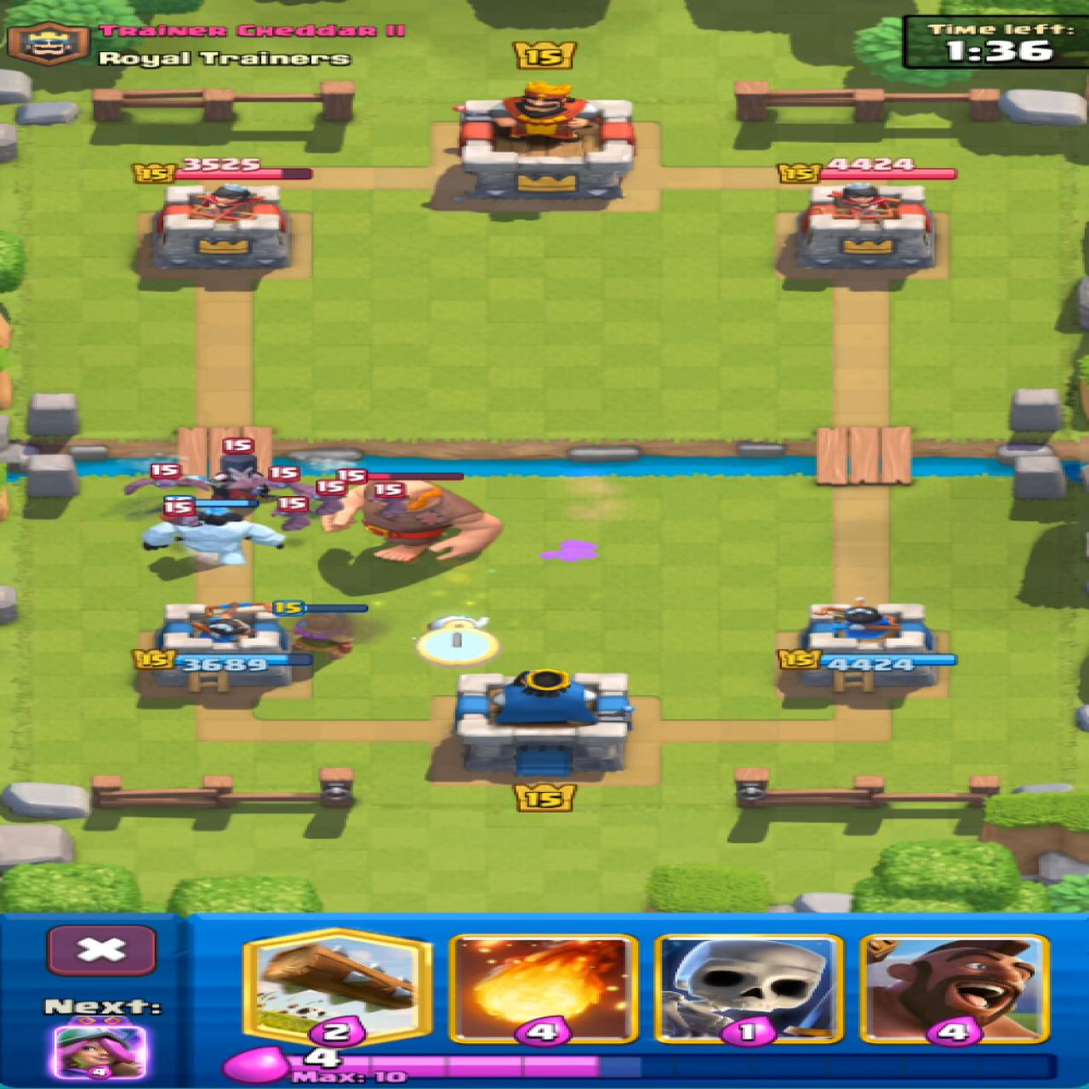Enemy-Bat: (231, 466, 316, 498), (124, 463, 211, 494), (292, 479, 346, 516), (274, 495, 307, 531), (375, 485, 407, 517), (163, 496, 196, 526)
Enemy-Giant: (325, 481, 501, 561)
Enemy-KingTower: (457, 80, 634, 198)
Enemy-NightWitch: (209, 453, 257, 496)
Enemy-PrincessTower: (797, 183, 932, 278), (152, 187, 290, 268)
